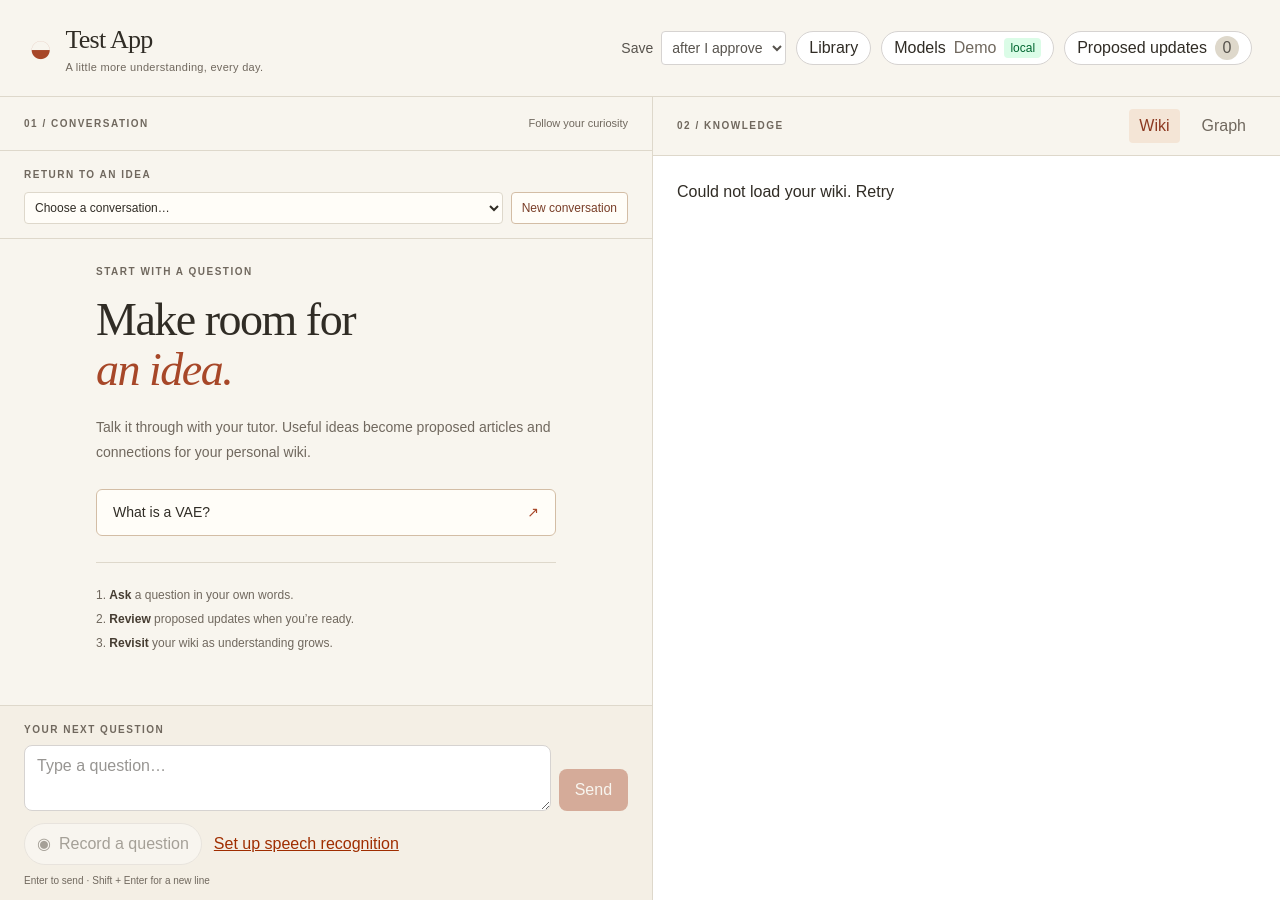
Test: failed wiki loading is recoverable and never described as an empty library
This screenshot has width=1280, height=900.
(page scrolled)
Check: the text "Could not load your wiki. Retry" is shown, box top-left (677, 180), bottom-right (894, 204)
Check: the text "Your wiki is empty" is not shown
Click the button "Retry": (875, 192) top-left (856, 180), bottom-right (894, 204)
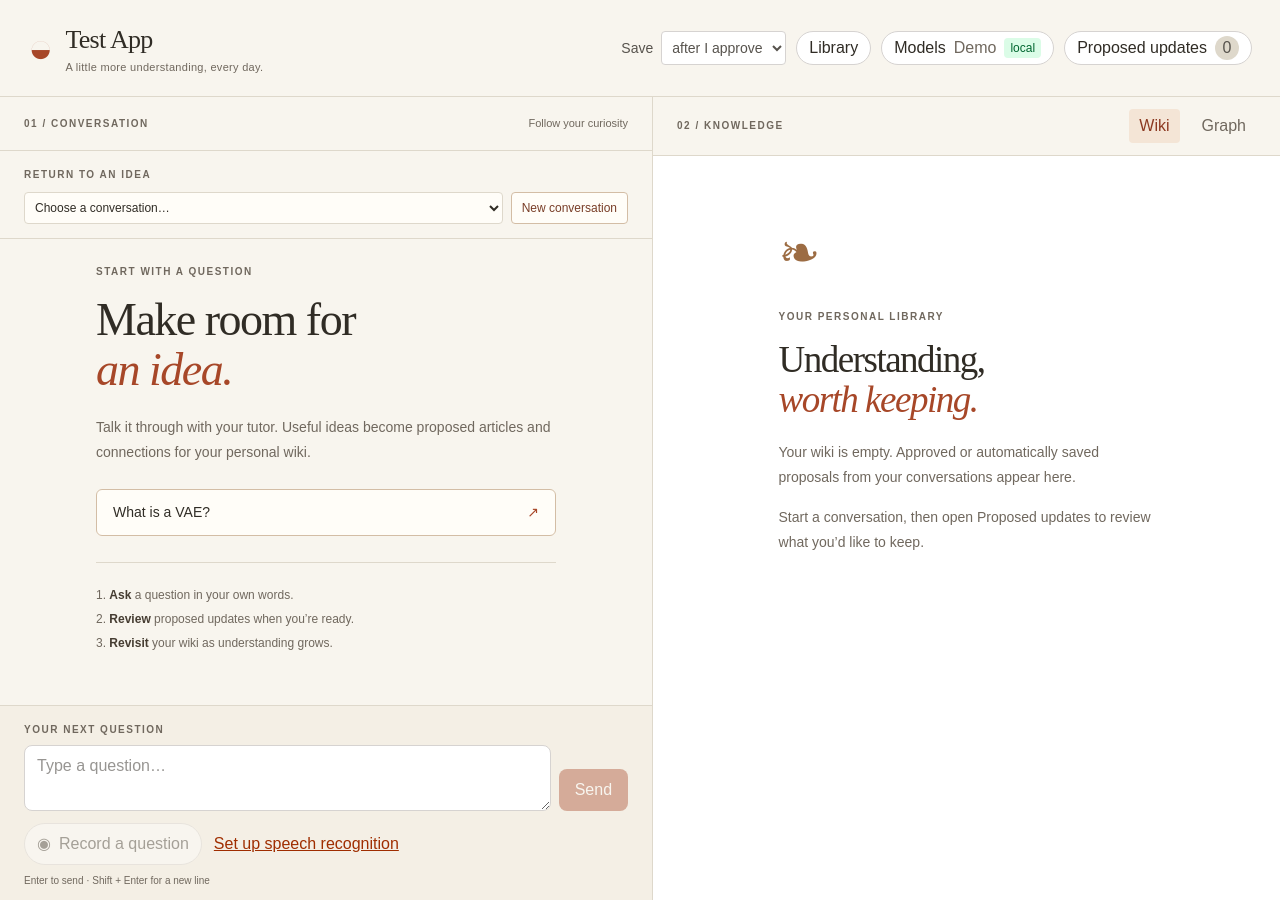
Check: the text "Your wiki is empty" is shown, box top-left (778, 444), bottom-right (1099, 485)
